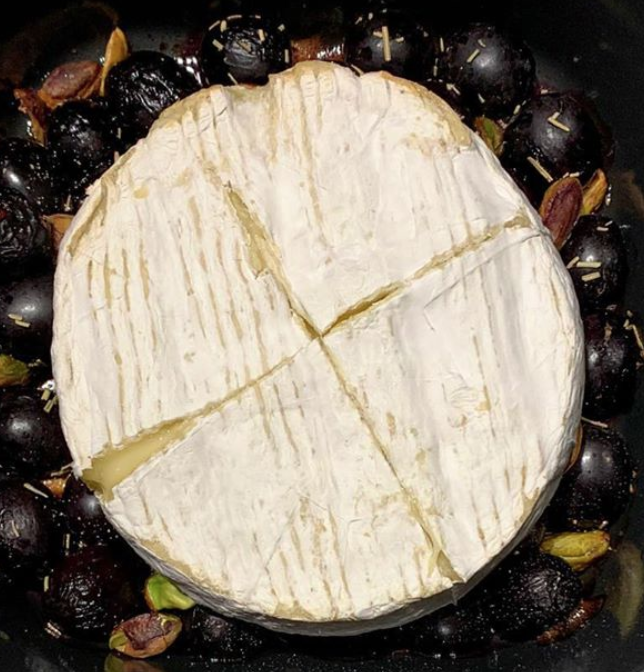camembert: (49, 60, 588, 639)
